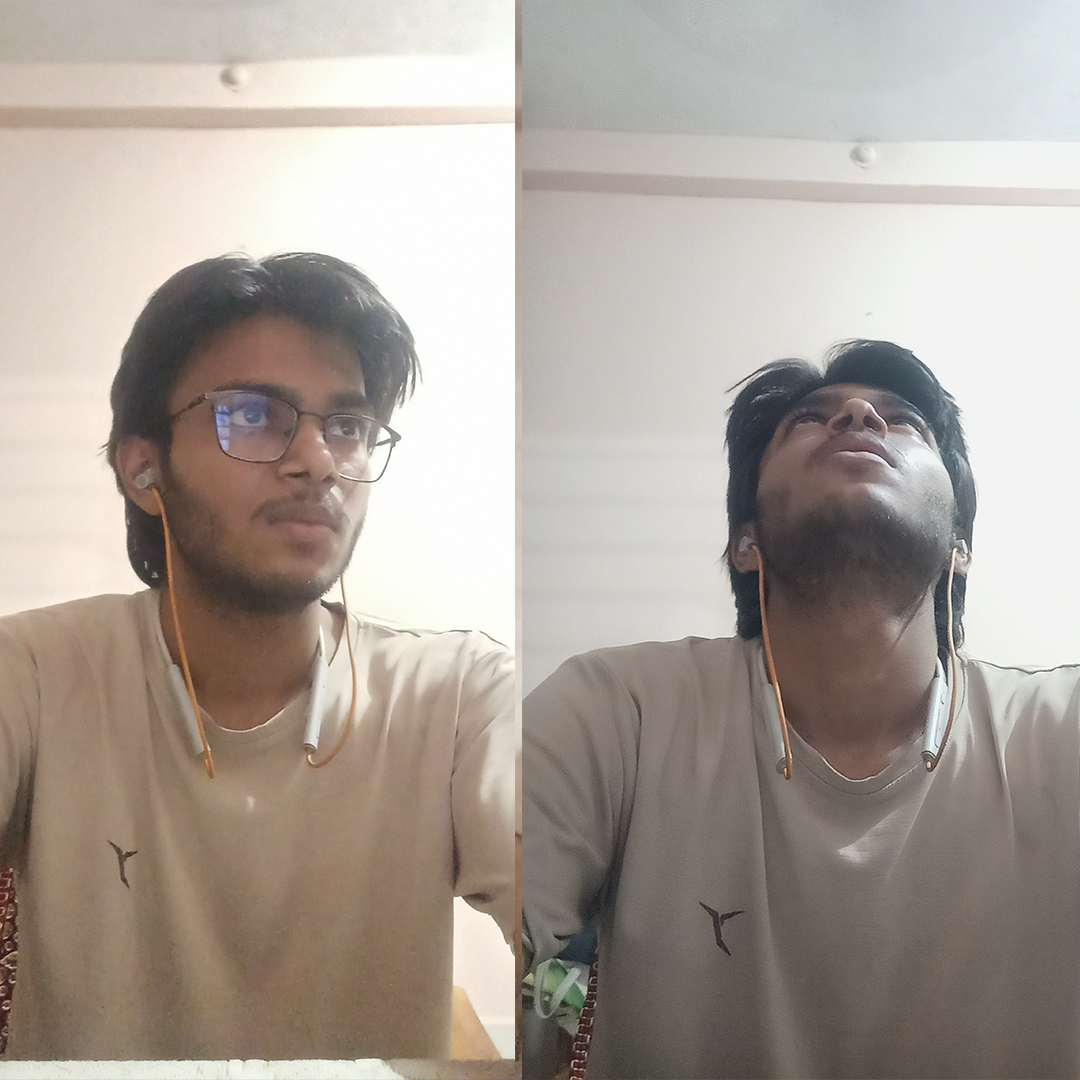distracted: (125, 184, 492, 709), (649, 318, 1024, 749)
